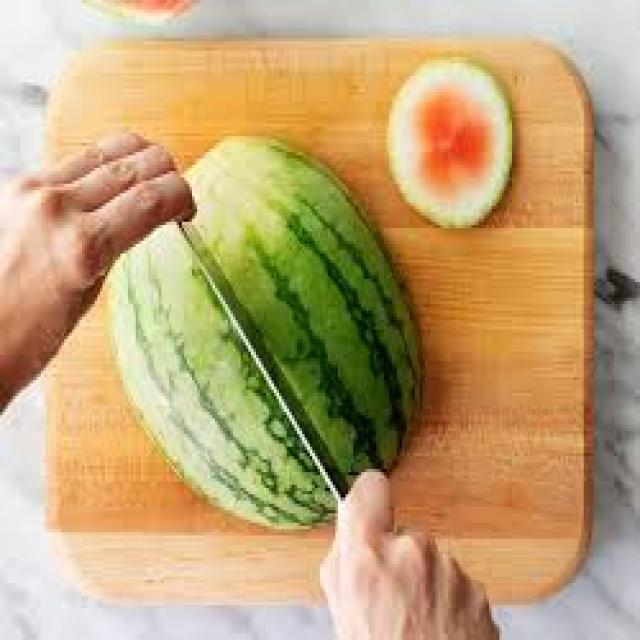watermelon: (105, 130, 425, 529), (384, 54, 515, 228)
